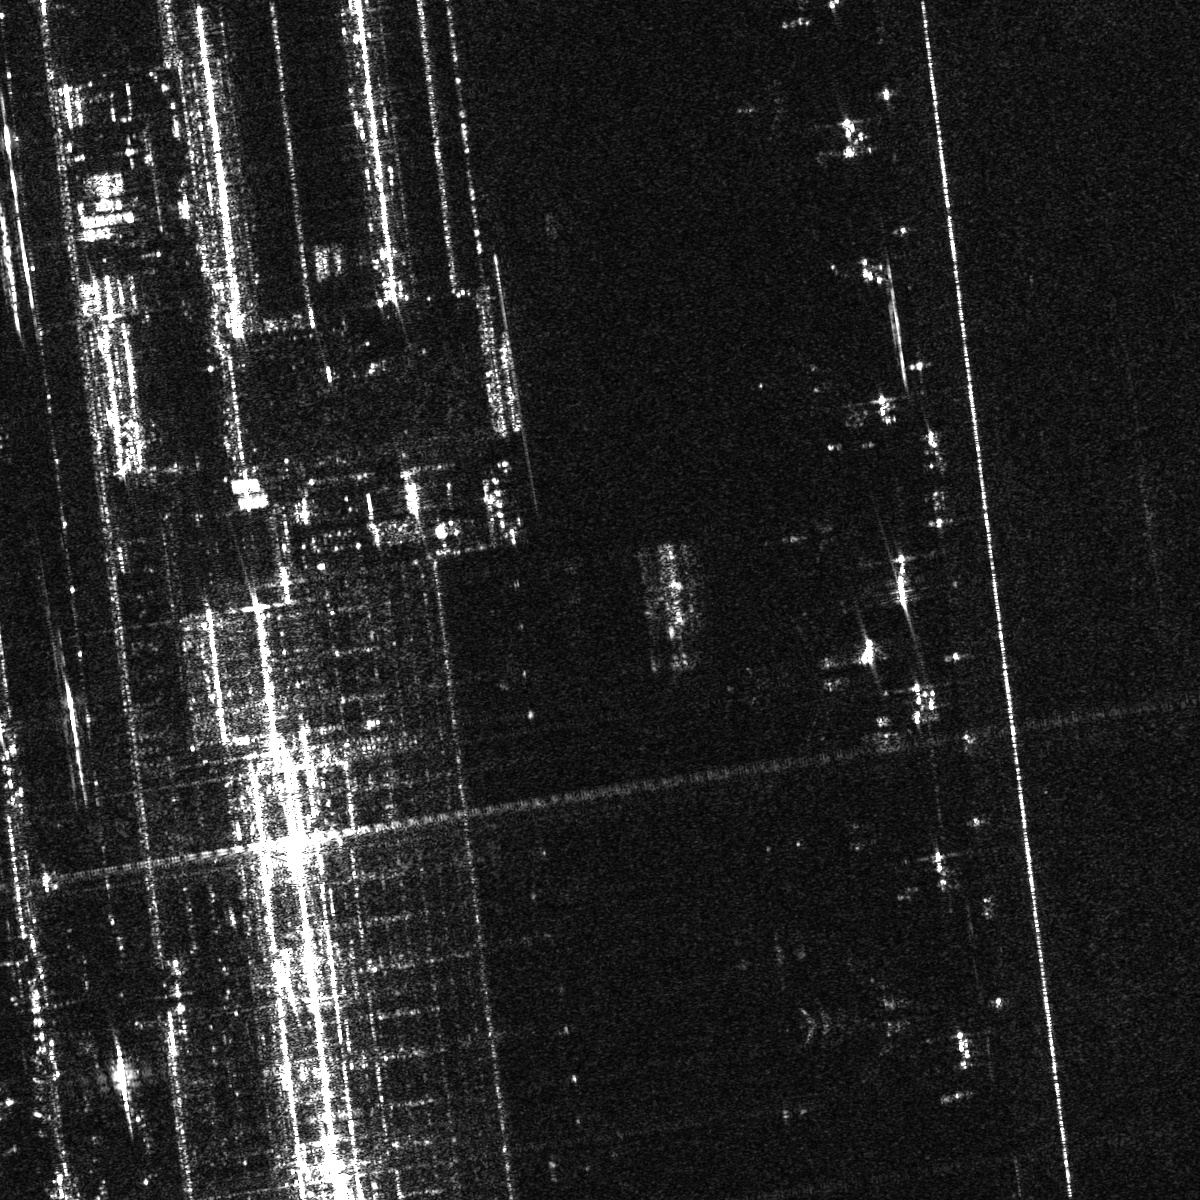A220: (762, 498, 851, 577)
A330: (745, 613, 858, 742)
Boeing787: (799, 953, 938, 1082), (729, 68, 805, 144)
